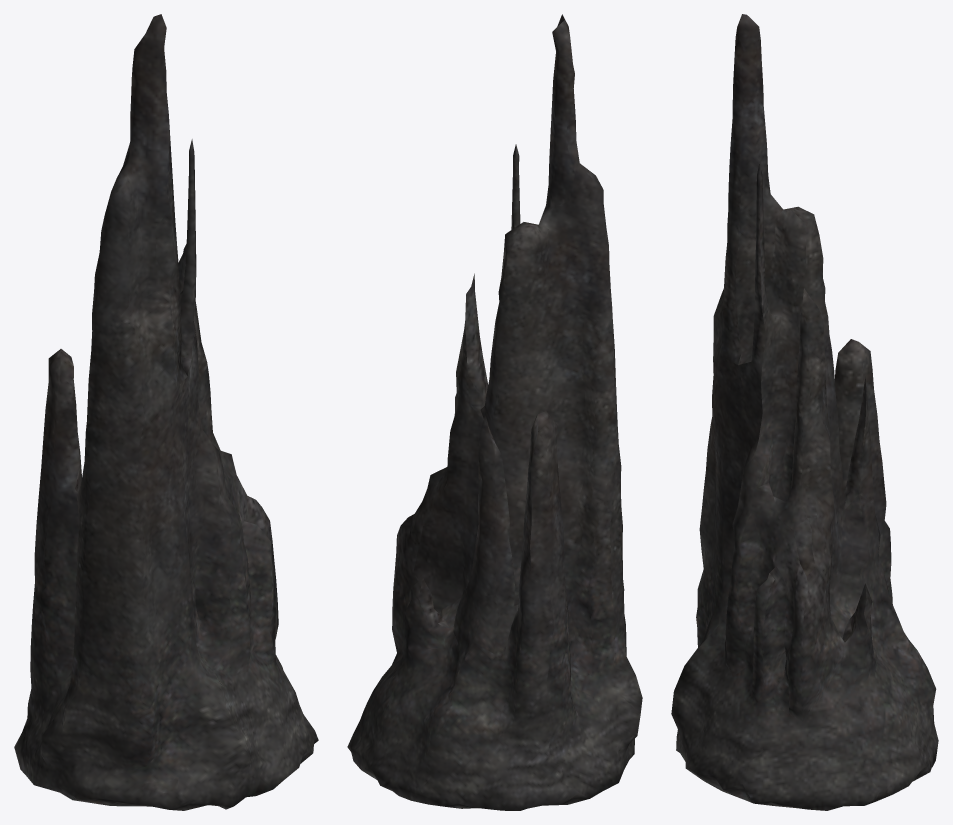
The model's file is CaveRockPack1_Low3.fbx.
3 views of the same model, side by side, from view 1: azimuth 30°, elevation 25°; view 2: azimuth 150°, elevation 25°; view 3: azimuth 270°, elevation 25° (orthographic). The views are drawn at different scales.
Visible parts, largest first — view 1: CaveRockPack1_Low3; view 2: CaveRockPack1_Low3; view 3: CaveRockPack1_Low3.
Part boxes in pixels (x1,y1,x2,y2): CaveRockPack1_Low3: (14,14,318,810); CaveRockPack1_Low3: (347,14,642,810); CaveRockPack1_Low3: (671,14,938,810).
Size of the model in its own units: 1676 by 4620 by 1541.
